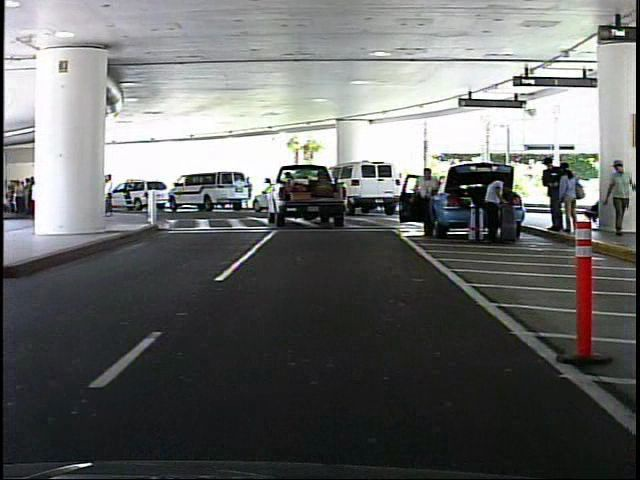person: (475, 169, 511, 247), (408, 163, 443, 239), (542, 153, 572, 238), (605, 156, 635, 237), (556, 158, 586, 238)
